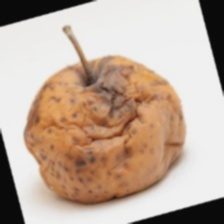apple: (36, 21, 224, 199)
